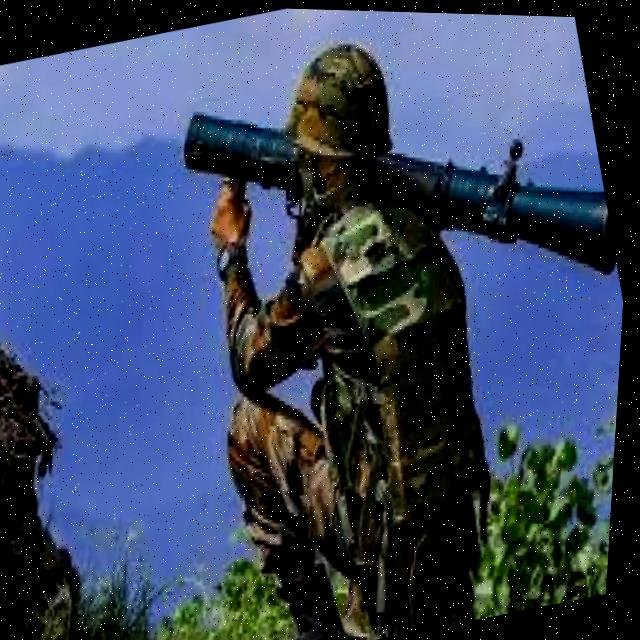rocket: (145, 16, 632, 362)
